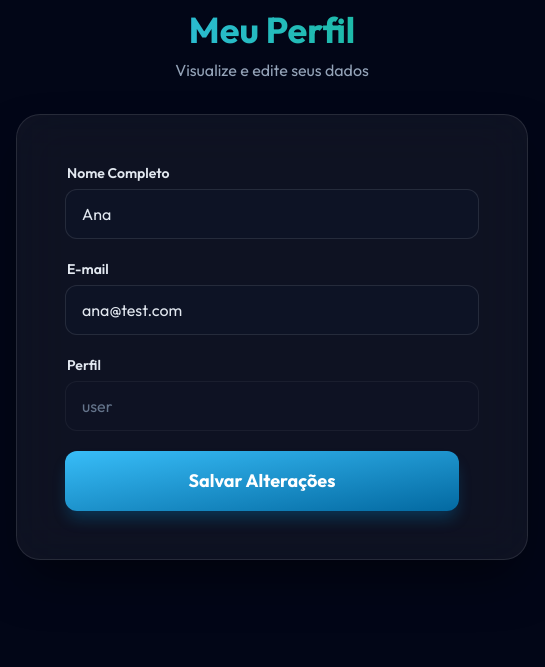
Test: UserProfileView › submits the edited name/email and syncs them into authStore
This screenshot has width=545, height=667.
Replace the text in the field with id "name" with "Ana Maria" at (272, 214), box x1=65 y1=189 x2=479 y2=239
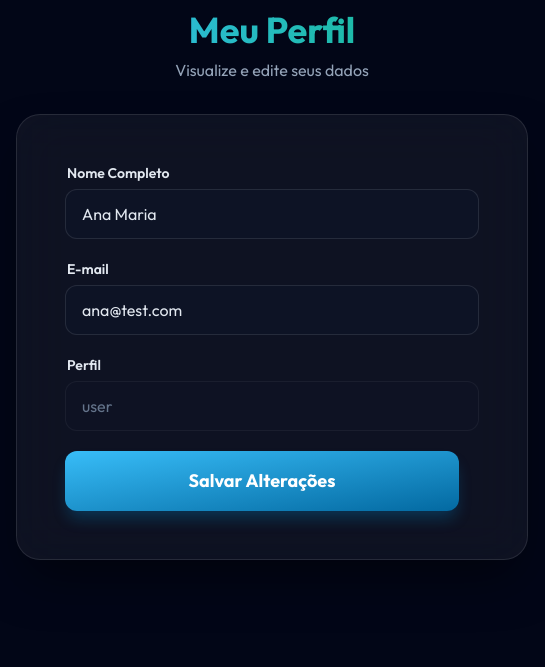
Replace the text in the field with id "email" with "ana.maria@test.com" at (272, 310), box x1=65 y1=285 x2=479 y2=335
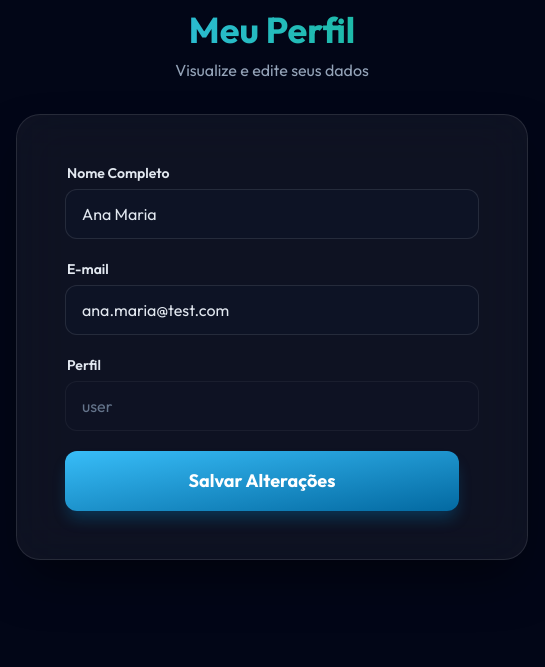
Submit the form, box x1=65 y1=163 x2=479 y2=511
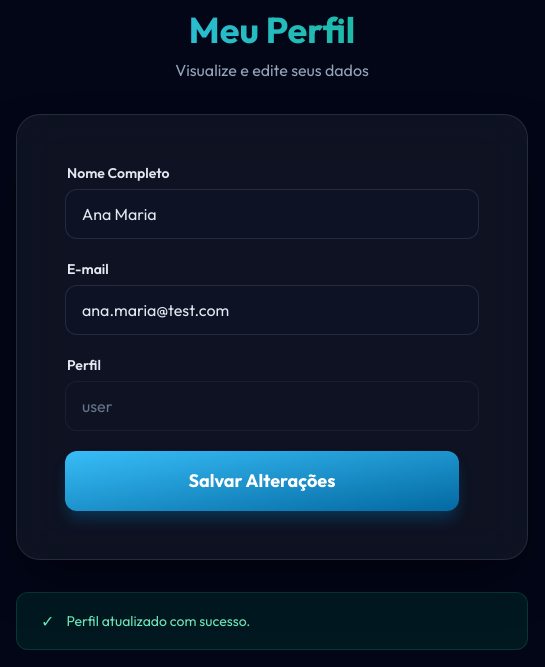
Expected: the text "Perfil atualizado com sucesso" is shown, x1=66 y1=612 x2=250 y2=630
